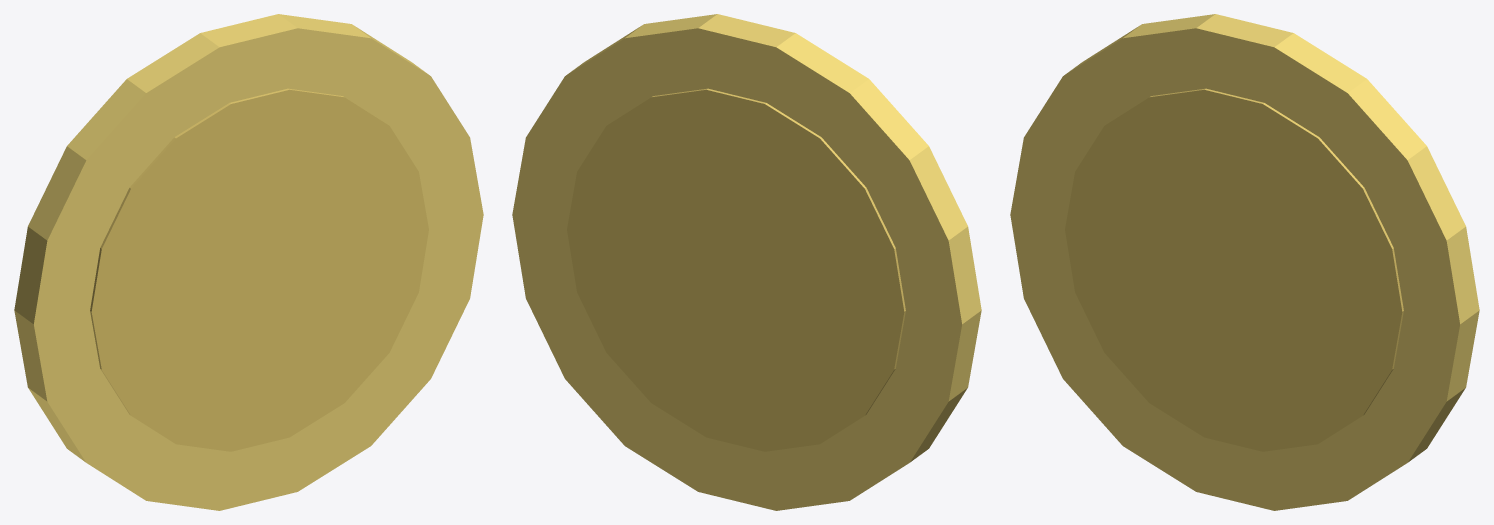
Rendered from moneda_gira.glb.
The picture shows the model from 3 angles, left to right: view 1: azimuth 30°, elevation 25°; view 2: azimuth 150°, elevation 25°; view 3: azimuth 330°, elevation 25°; orthographic projection.
Visible parts, largest first — view 1: moneda_gira; view 2: moneda_gira; view 3: moneda_gira.
Boxes of the visible parts, left/top/right/bottom form: moneda_gira: left=14, top=14, right=483, bottom=510; moneda_gira: left=512, top=14, right=981, bottom=510; moneda_gira: left=1010, top=14, right=1479, bottom=510.
Bounding box in the file's own units: 0.8 × 0.7878 × 0.07.
